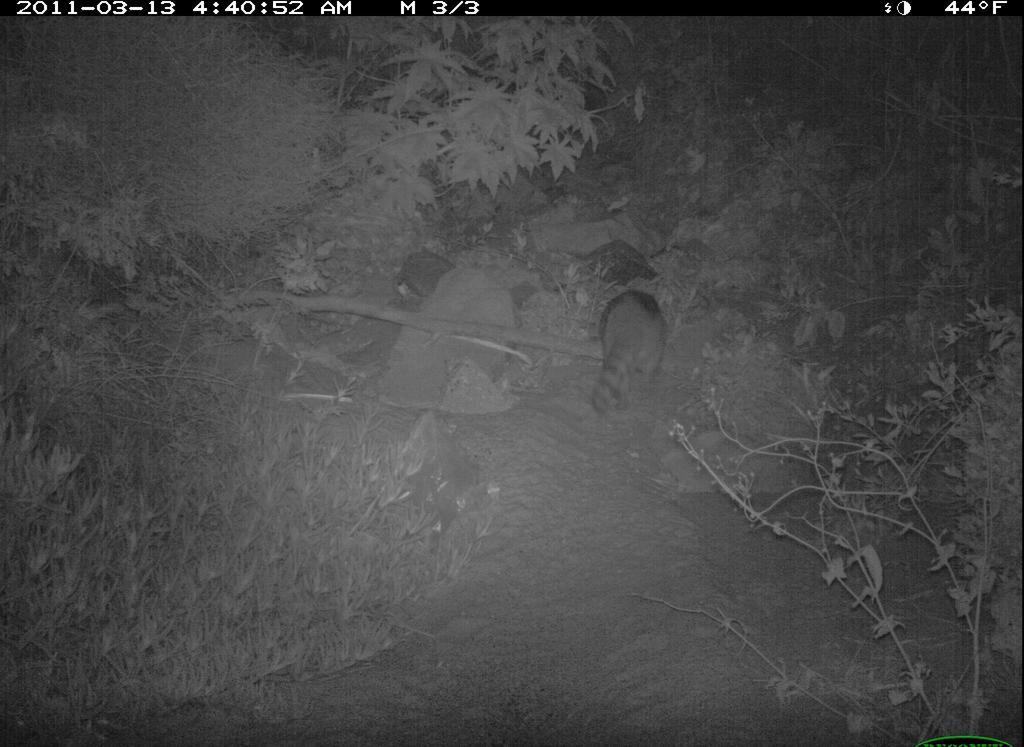raccoon: (560, 274, 693, 410)
